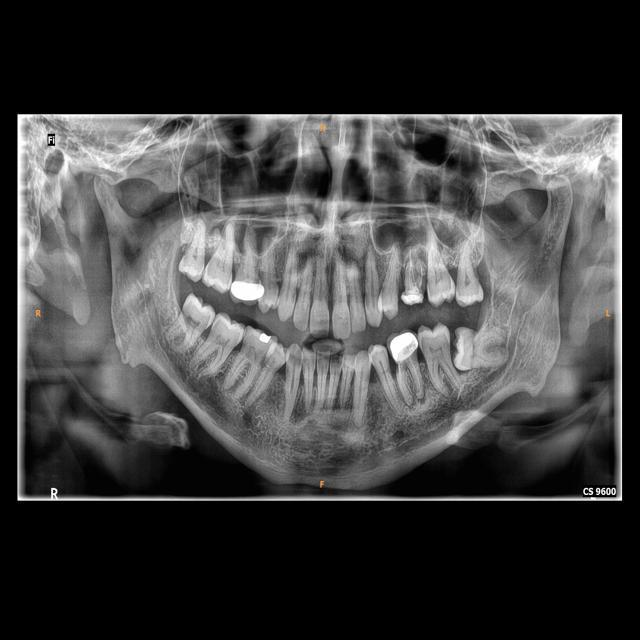dolgu: (401, 284, 424, 305), (257, 331, 273, 345)
kanal-tedavisi: (397, 360, 423, 397), (406, 246, 418, 286)
kaplama: (386, 330, 418, 361), (232, 276, 266, 304)
